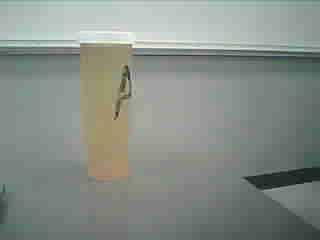Bottle A: (80, 31, 133, 181)
